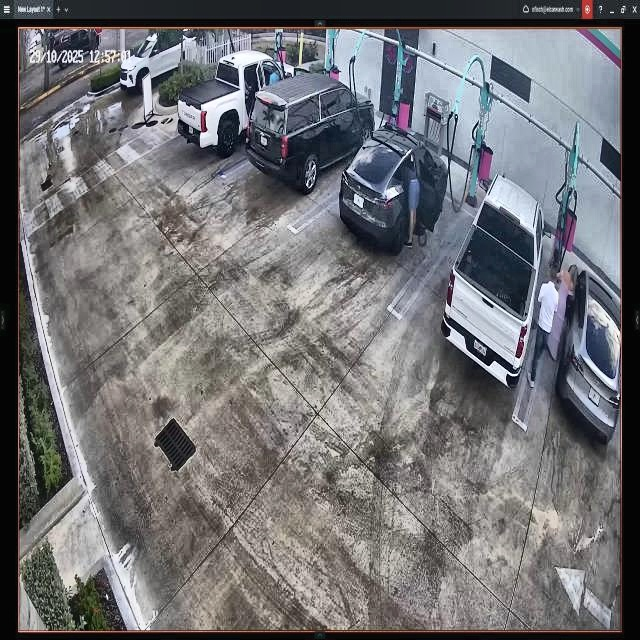Car: (442, 171, 545, 387), (248, 72, 372, 190), (341, 126, 447, 246), (178, 52, 294, 150)
